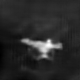plane: (18, 35, 64, 62)
